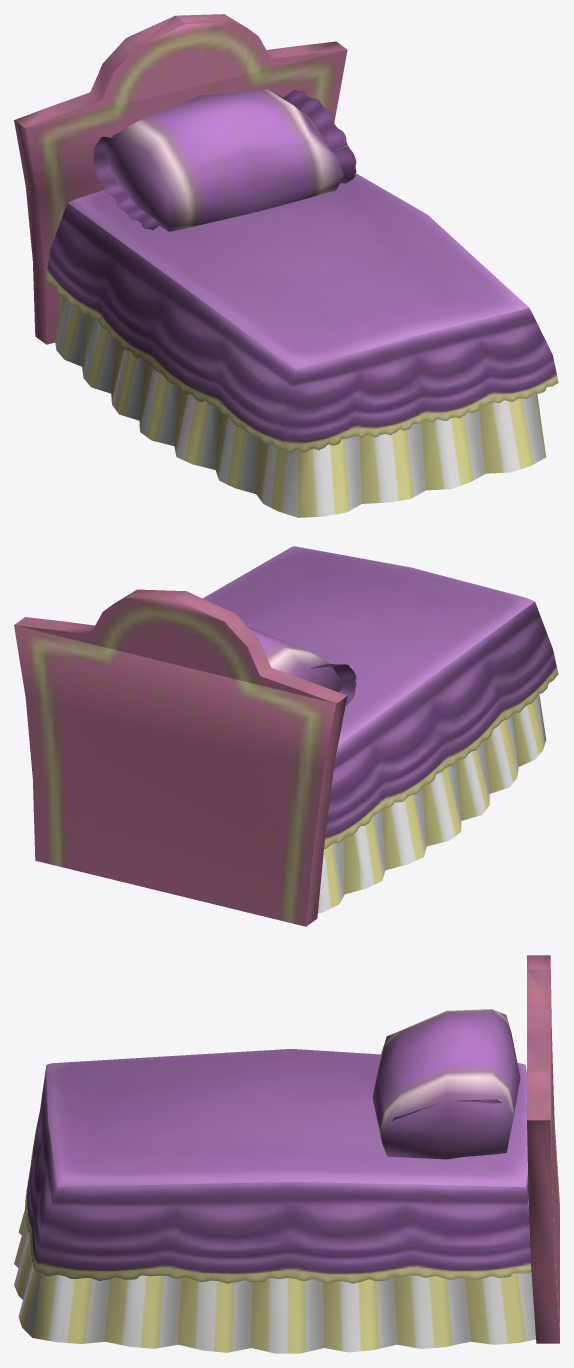
The model's file is girly_bed.glb.
3 renders of one model, top to bottom at view 1: azimuth 30°, elevation 25°; view 2: azimuth 150°, elevation 25°; view 3: azimuth 270°, elevation 25°, orthographic. The views are drawn at different scales.
Visible parts, largest first — view 1: mattress_side, mattress_top, bottom, head, pillow, pillow_side1, pillow_side2; view 2: head, mattress_top, mattress_side, bottom, pillow, pillow_side2; view 3: mattress_side, mattress_top, bottom, pillow, head.
Boxes of the visible parts, x1,y1,x2,y2 form: mattress_side: (46, 203, 558, 452); mattress_top: (68, 173, 529, 369); bottom: (55, 296, 546, 517); head: (14, 14, 347, 344); pillow: (106, 89, 344, 231); pillow_side1: (283, 89, 356, 183); pillow_side2: (93, 136, 161, 230); head: (14, 589, 347, 926); mattress_top: (203, 546, 534, 745); mattress_side: (324, 602, 558, 848); bottom: (318, 694, 546, 913); pillow: (248, 627, 342, 692); pillow_side2: (310, 664, 356, 705); mattress_side: (25, 1066, 531, 1283); mattress_top: (46, 1049, 527, 1186); bottom: (14, 1209, 535, 1353); pillow: (372, 1009, 520, 1159); head: (527, 955, 559, 1343).
Bounding box in the file's own units: 4.37 × 3.77 × 6.12.
6 materials, 6 textured.
